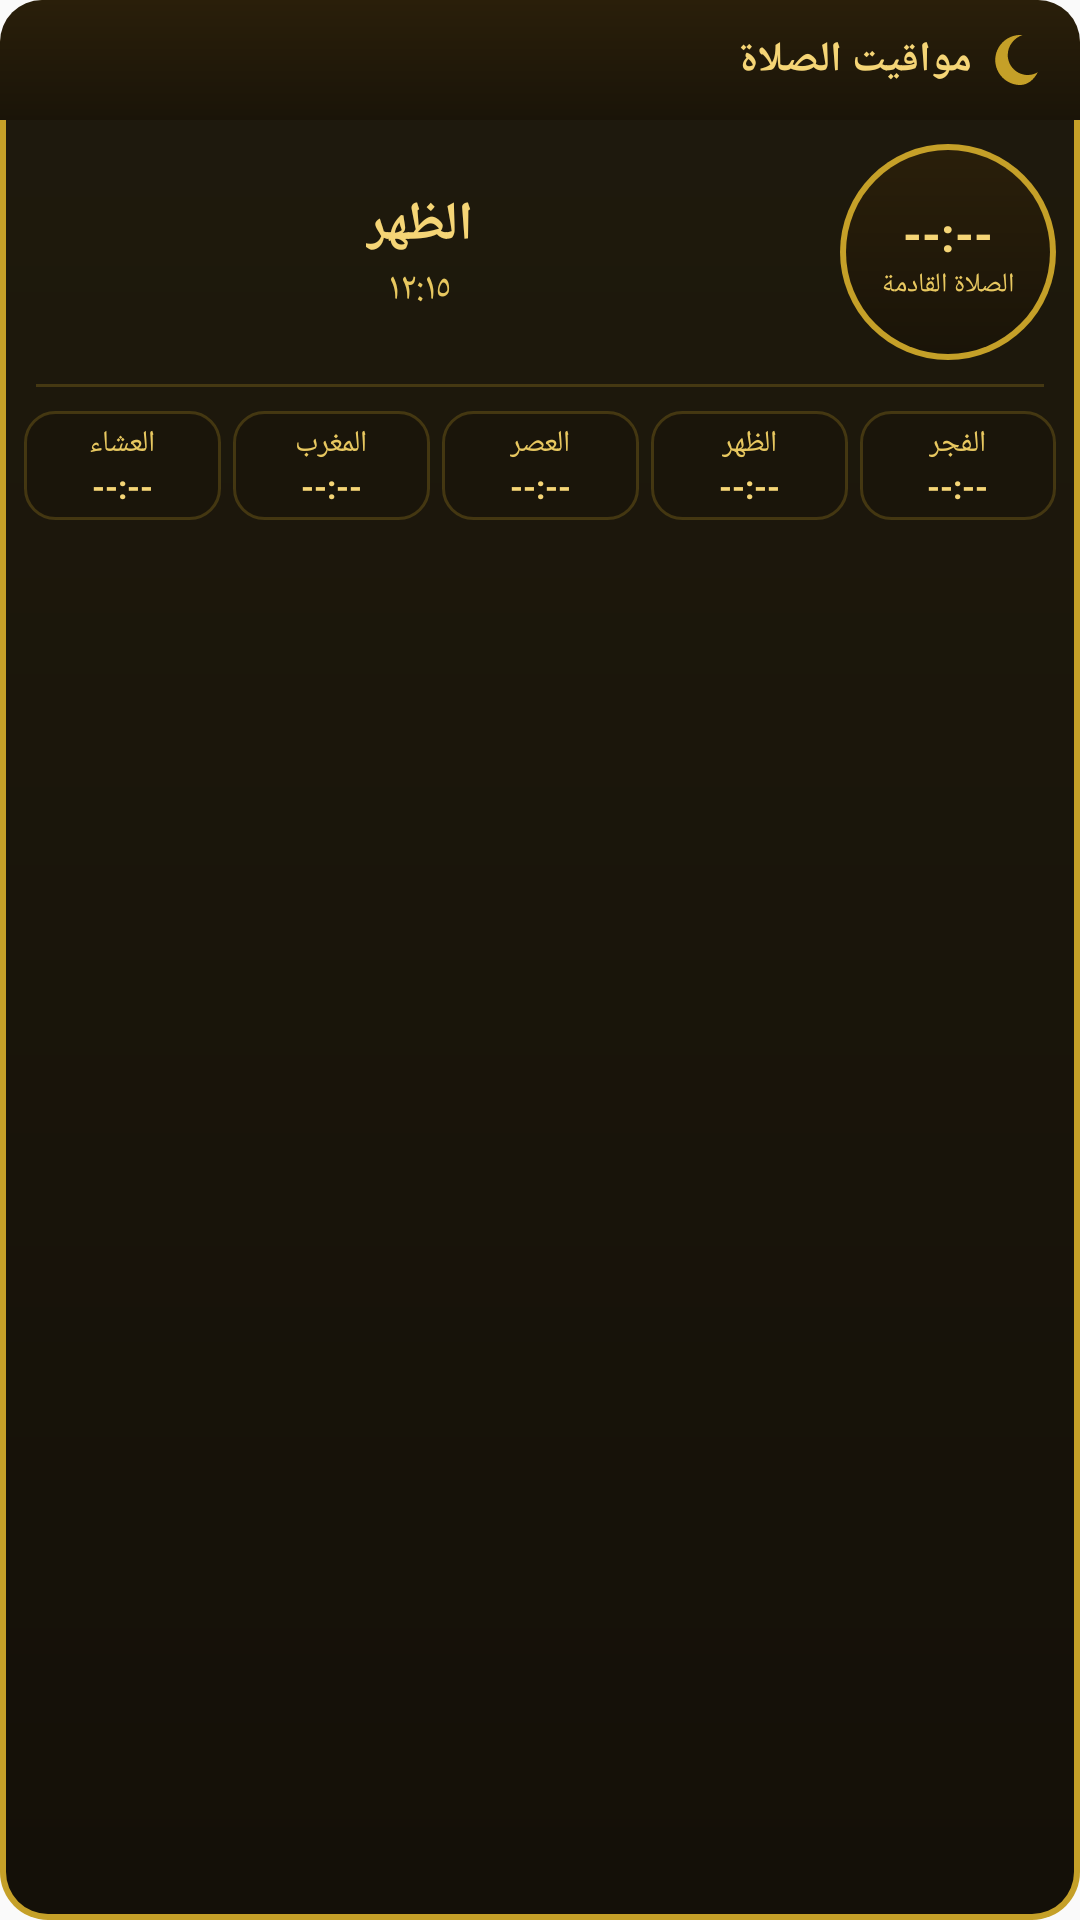

Screen size 1080*1920. Icon name, then its box in pixels as (x1, y1, x2, y2):
صلاتك: (995, 35, 1038, 85)
